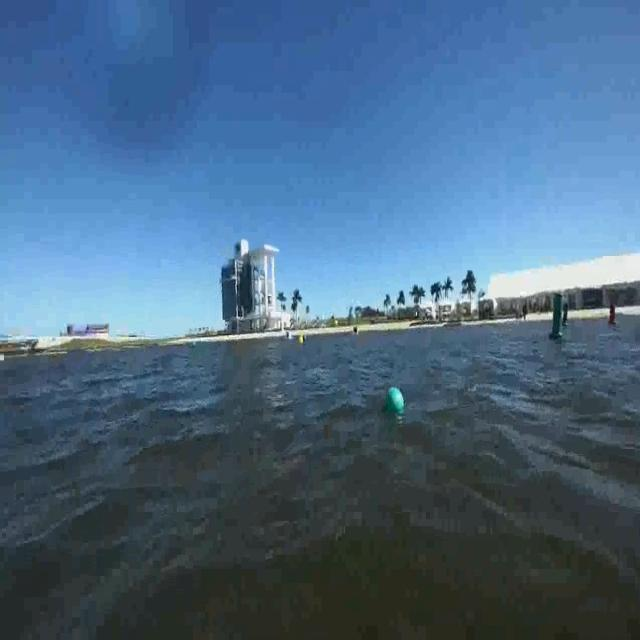green-buoy: (382, 389, 402, 416)
green-column-buoy: (549, 293, 570, 342)
